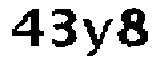3: (49, 6, 79, 51)
4: (8, 5, 45, 50)
8: (119, 5, 151, 52)
y: (81, 12, 115, 60)
